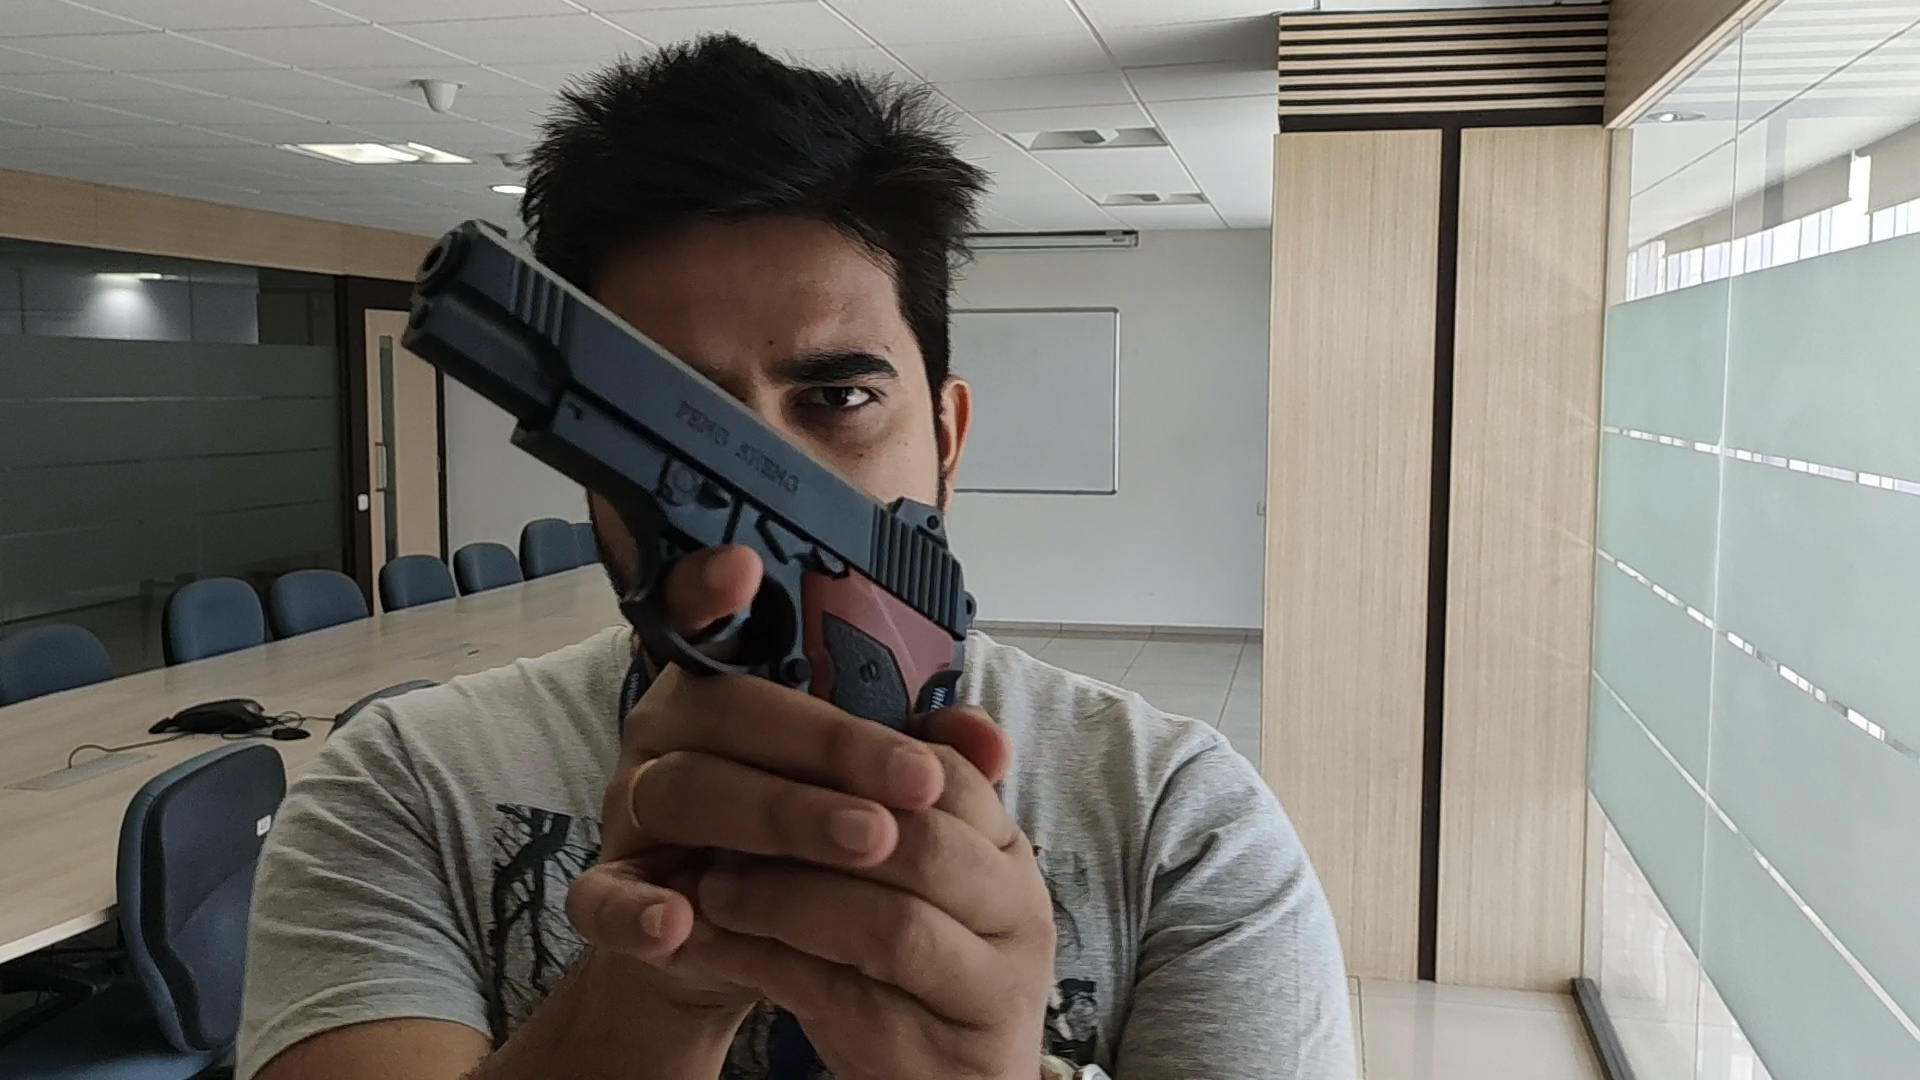gun: (400, 220, 944, 546)
